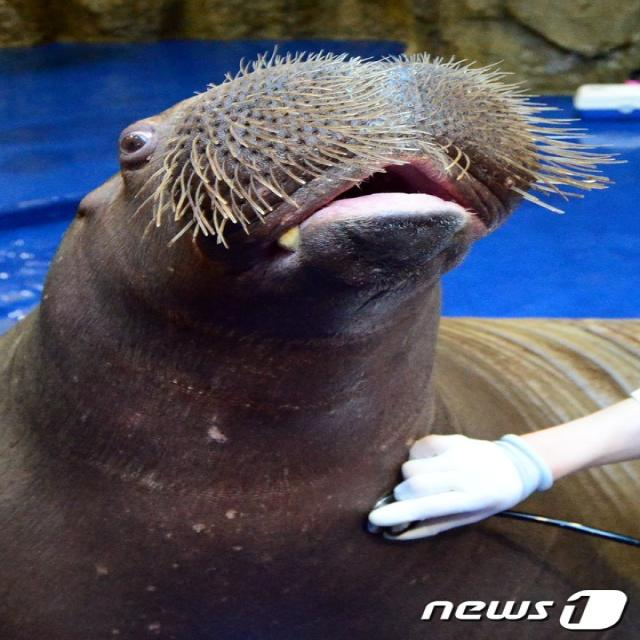walrus: (44, 15, 590, 456)
